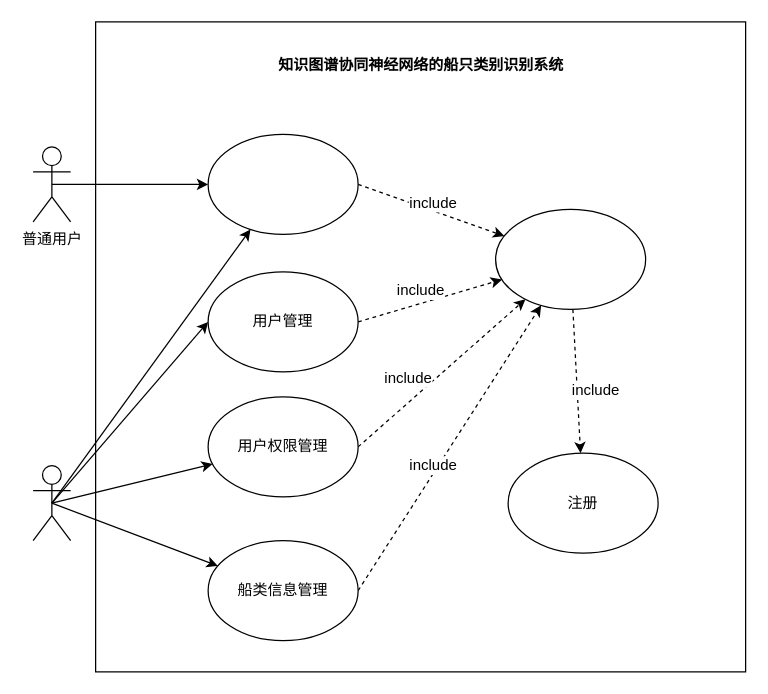
This 768x694 diagram has some shape labels left out. The box of each missing label's shape, as (x1, y1, x2, y2) in pixels:
图像识别: (207, 133, 358, 234)
登录: (494, 208, 646, 309)
管理员: (32, 464, 71, 541)
